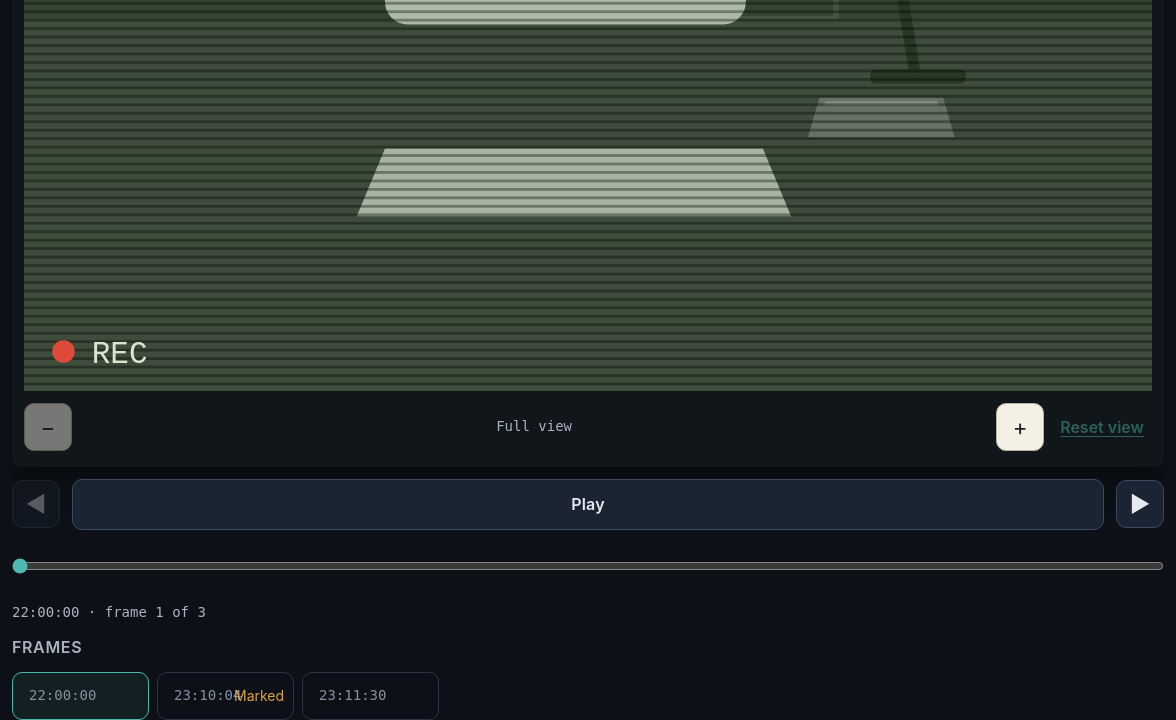
Test case: CctvViewer › scrubs and jumps from the frame list
(page scrolled)
Set the slider named "Frame" to "2": (1156, 566) top-left (12, 542), bottom-right (1164, 590)
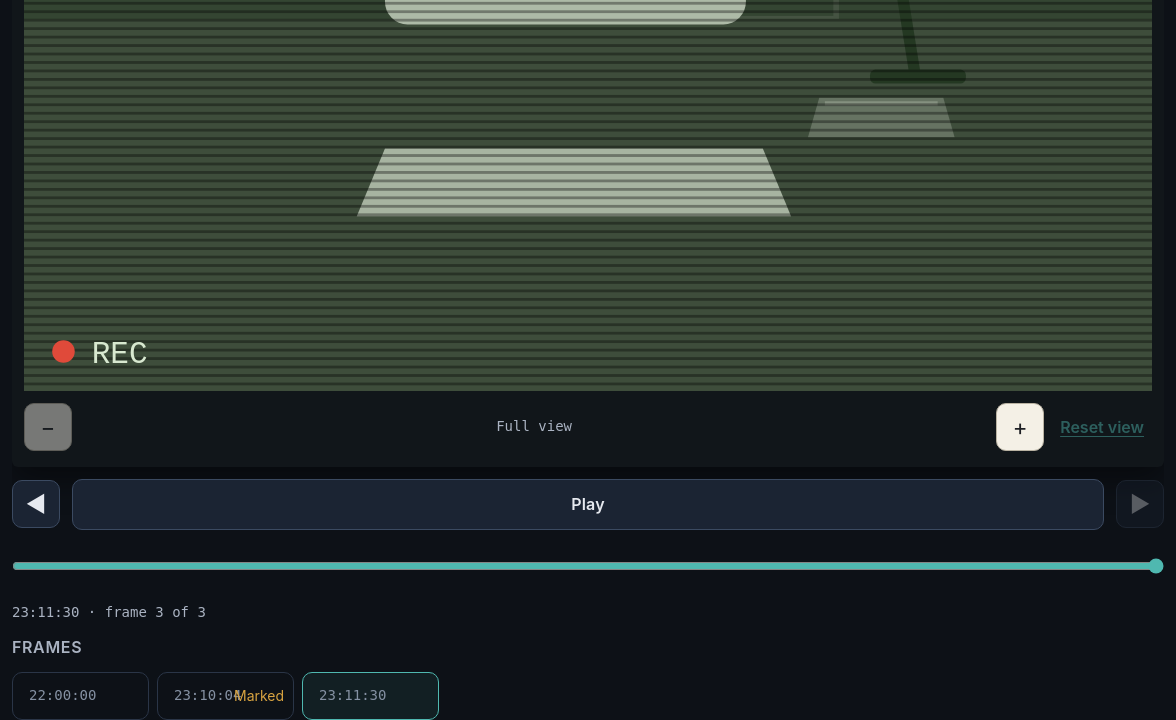
Expected: the text "23:11:30 · frame 3 of 3" is shown, top-left (12, 604), bottom-right (206, 620)
Click the button "22:00:00": click(80, 696) top-left (12, 672), bottom-right (149, 719)
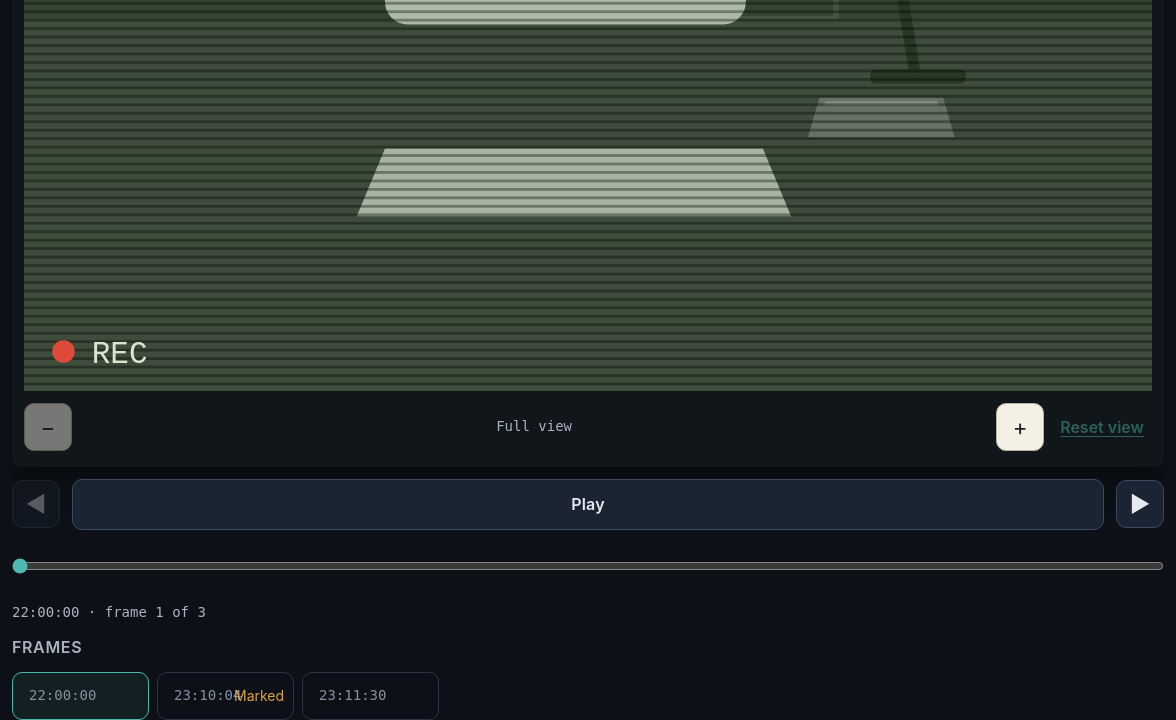
Expected: the text "22:00:00 · frame 1 of 3" is shown, top-left (12, 604), bottom-right (206, 620)
